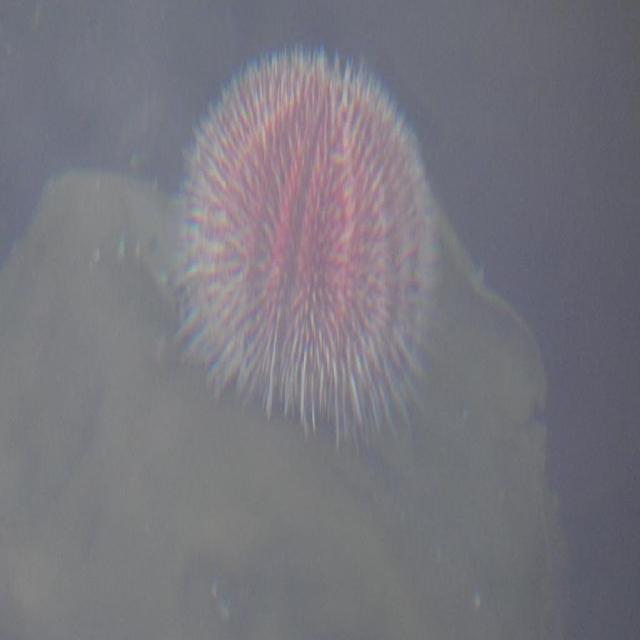Deniz Kestanesi: (170, 41, 434, 453)
